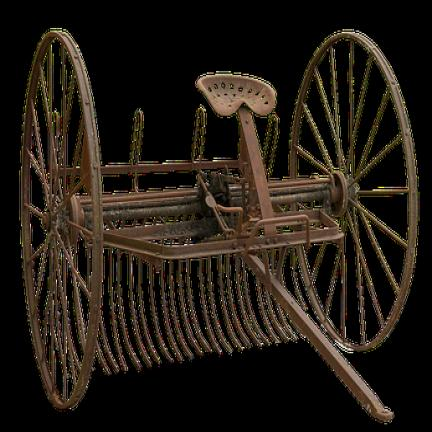karat: (271, 280, 394, 420), (103, 233, 269, 257), (238, 107, 273, 219), (198, 75, 277, 116), (250, 216, 313, 249), (103, 189, 201, 210), (314, 210, 343, 242)
